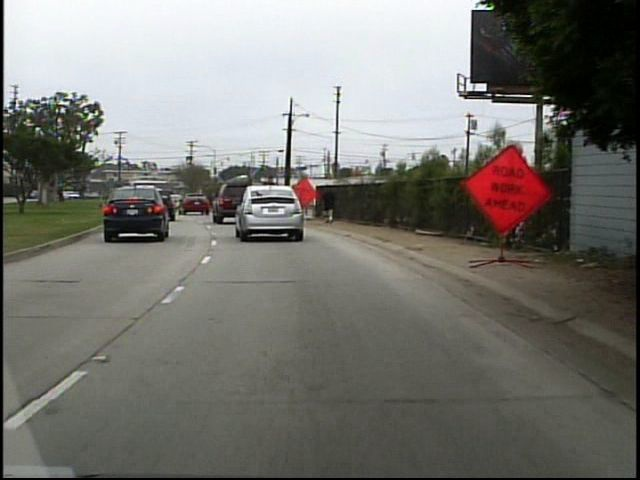person: (318, 182, 337, 226)
